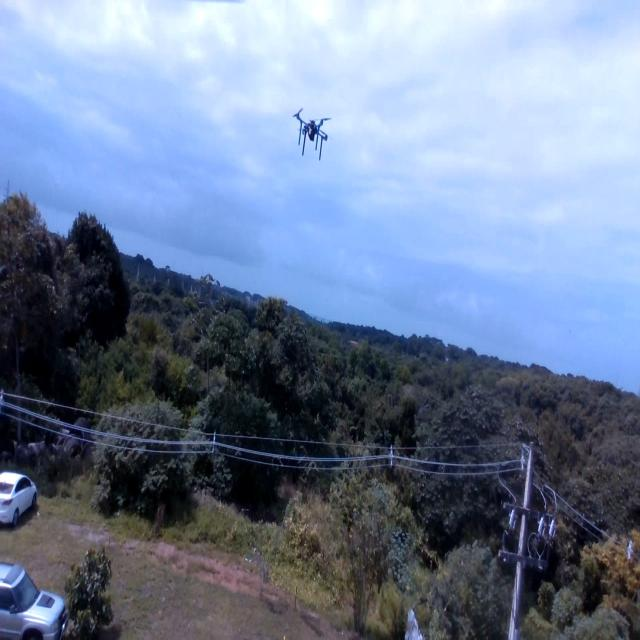-uav-: (289, 90, 338, 172)
